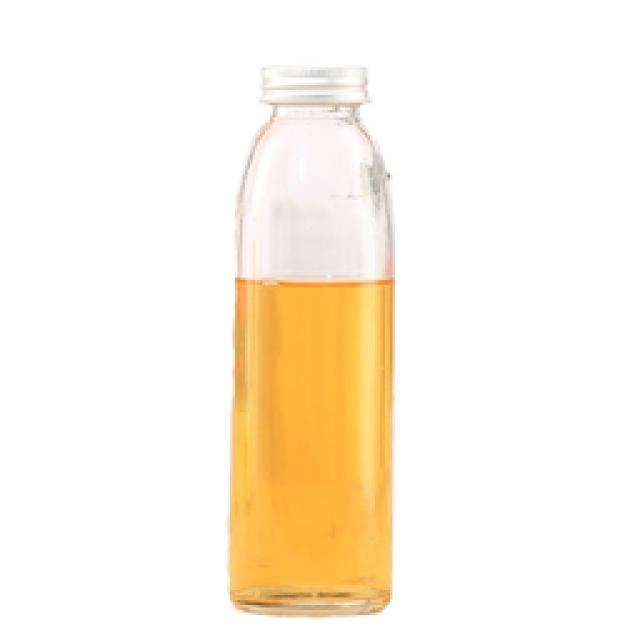glass_beverage_bottles: (233, 65, 395, 620)
